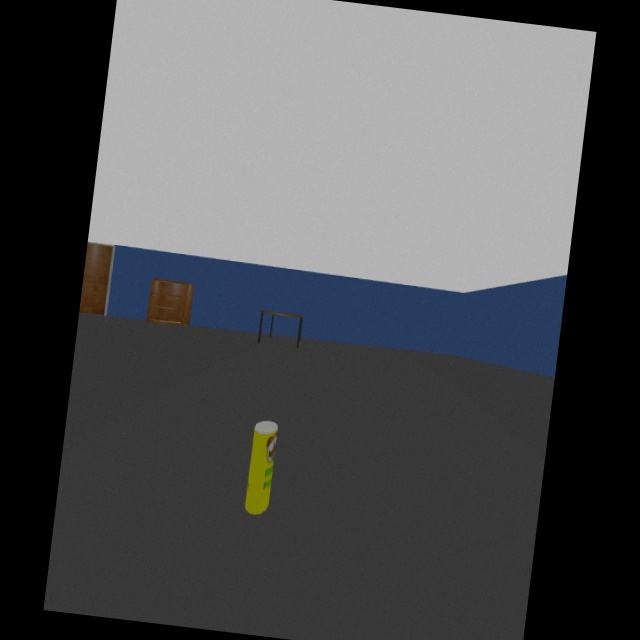chipsdose_gelb: (244, 420, 278, 517)
